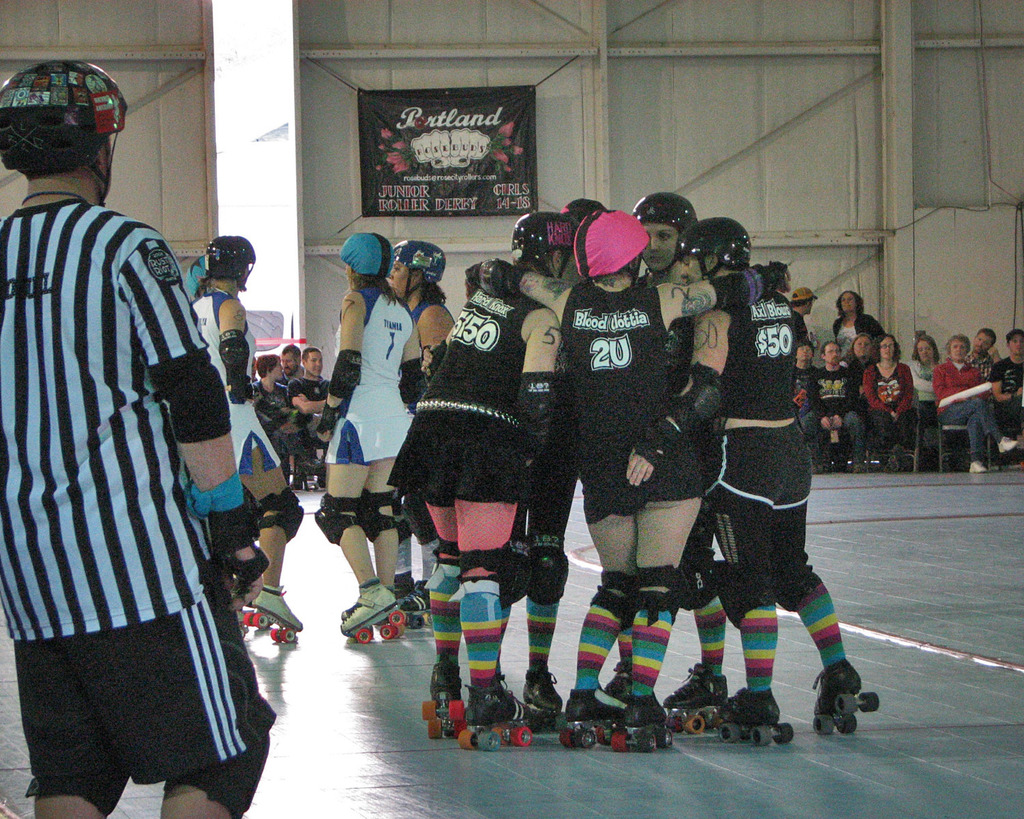Person: (383, 189, 865, 727), (0, 60, 276, 819), (190, 233, 305, 632), (793, 284, 1023, 475), (313, 230, 415, 637), (246, 341, 332, 491), (389, 236, 459, 356)
